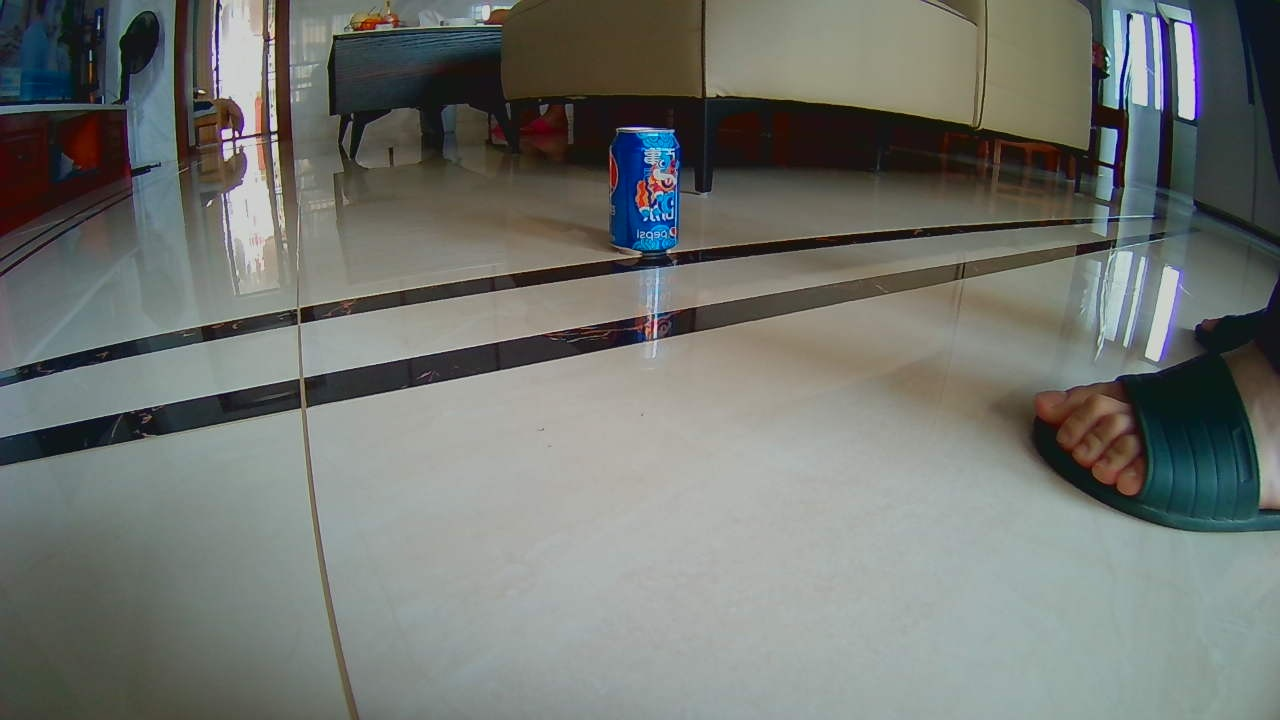pessi: (610, 122, 679, 251)
